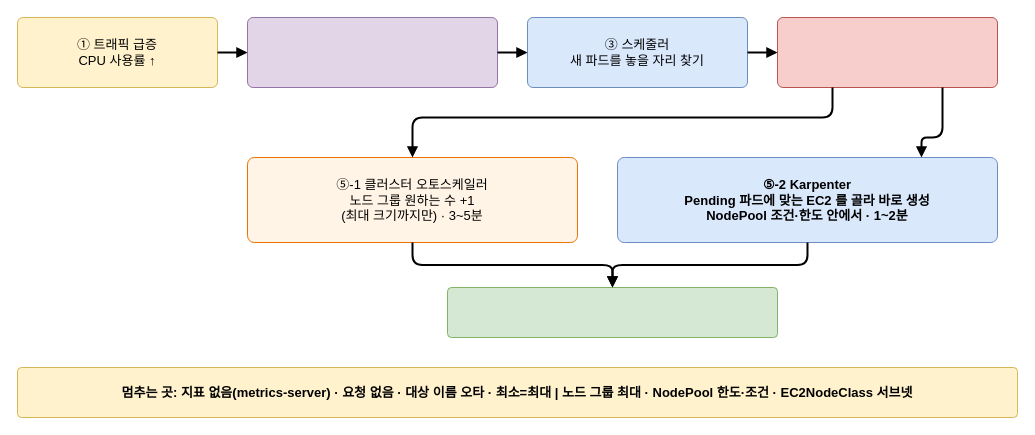
Image size: 1035x435. Some labels were removed from this diagram. Each missing label, with the centre of its shape:
"② HPA 사용률 = 사용량 ÷ 요청(requests) 목표 50% 넘으면 파드 수 ↑" goes at pixel 372 52.
"④ 자리 없음 → Pending (Insufficient cpu)" goes at pixel 887 52.
"⑥ 새 노드 Ready → 파드 Running" goes at pixel 612 312.
